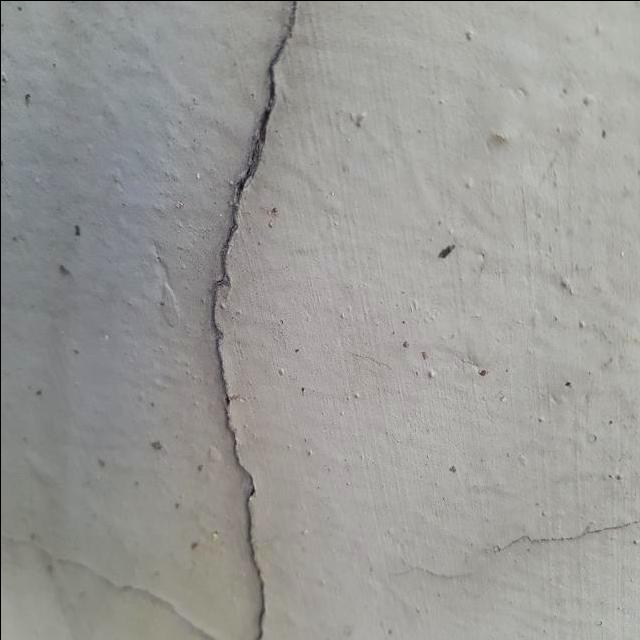SurfaceCrack: (177, 0, 346, 640)
